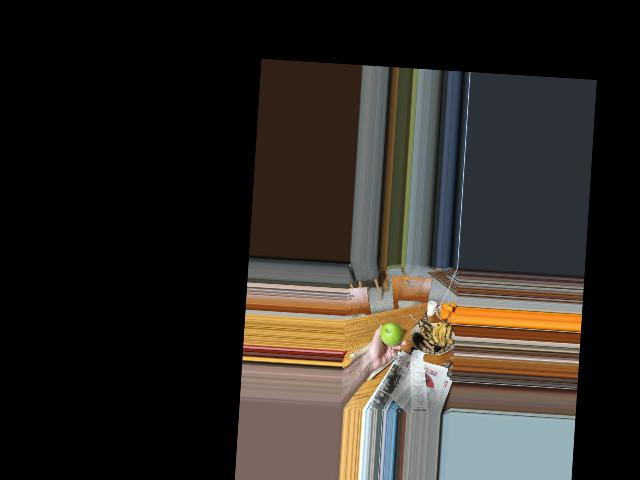apple: (378, 322, 403, 347)
